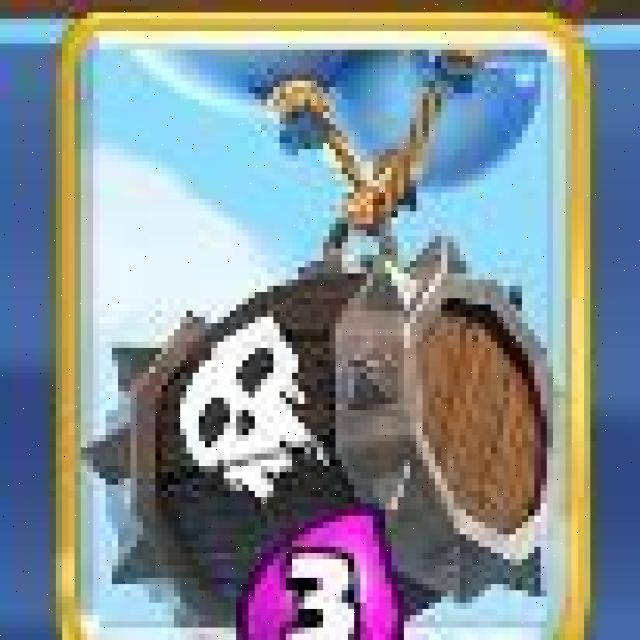Skeleton_Barrel: (56, 12, 594, 640)
